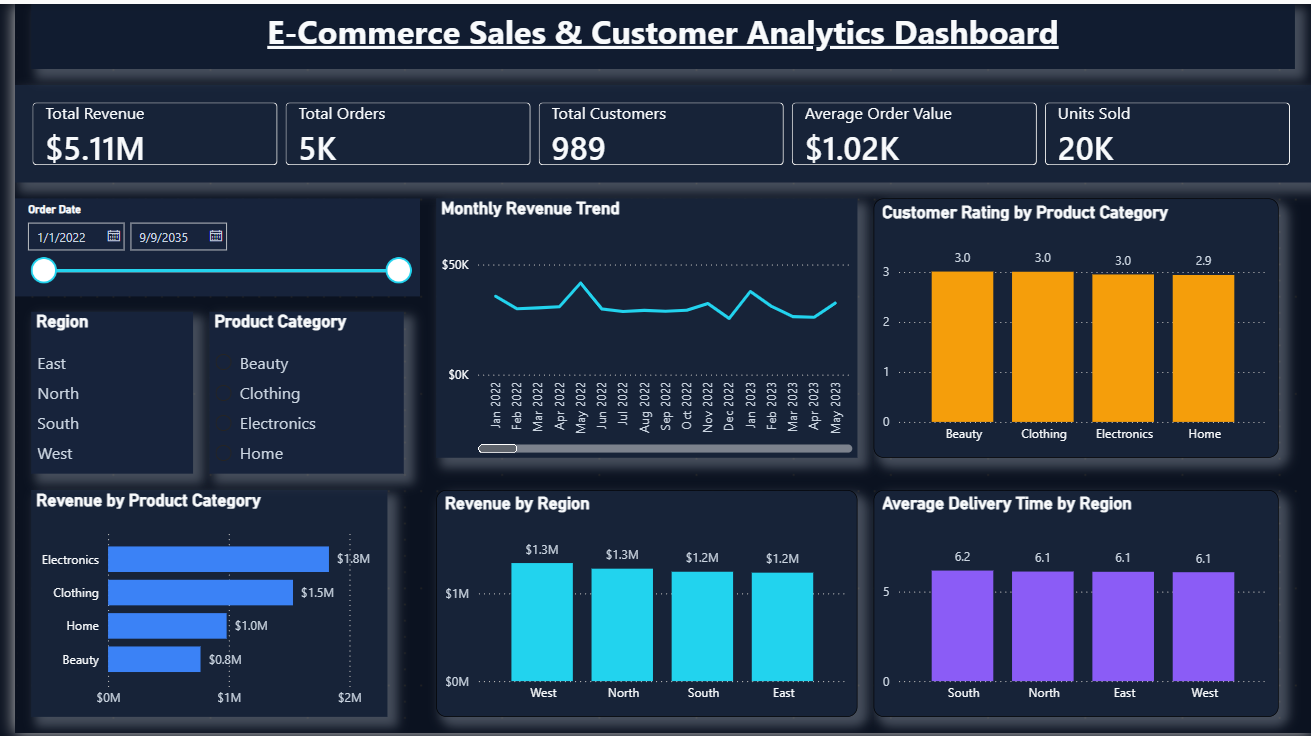

The page's visual inventory and layout, read from the dashboard file:
{"tool":"powerbi","page":{"name":"Executive Overview","canvas":[1280,720],"ordinal":0},"visuals":[{"type":"cardVisual","fields":{"Data":["ecommerce_sales_analytics_5000.Total Revenue","ecommerce_sales_analytics_5000.Total Orders","ecommerce_sales_analytics_5000.Total Customers","ecommerce_sales_analytics_5000.Average Order Value","ecommerce_sales_analytics_5000.Total Quantity Sold"]},"box":[0,80,1280,96],"z":4000},{"type":"lineChart","title":"Monthly Revenue Trend","fields":{"Y":["ecommerce_sales_analytics_5000.Total Revenue"],"Category":["ecommerce_sales_analytics_5000.Year Month"]},"box":[416,192,416,256],"z":5000},{"type":"clusteredBarChart","title":"Revenue by Product Category","fields":{"Category":["ecommerce_sales_analytics_5000.product_category"],"Y":["ecommerce_sales_analytics_5000.Total Revenue"]},"box":[16,480,352,224],"z":6000},{"type":"columnChart","title":"Revenue by Region","fields":{"Category":["ecommerce_sales_analytics_5000.region"],"Y":["ecommerce_sales_analytics_5000.Total Revenue"]},"box":[416,480,416,224],"z":7000},{"type":"clusteredColumnChart","title":"Customer Rating by Product Category","fields":{"Category":["ecommerce_sales_analytics_5000.product_category"],"Y":["Avg(ecommerce_sales_analytics_5000.customer_rating)"]},"box":[848,192,400,256],"z":8000},{"type":"clusteredColumnChart","title":"Average Delivery Time by Region","fields":{"Category":["ecommerce_sales_analytics_5000.region"],"Y":["ecommerce_sales_analytics_5000.Avg Delivery Days"]},"box":[848,480,400,224],"z":9000},{"type":"slicer","title":"Order Date","fields":{"Values":["ecommerce_sales_analytics_5000.order_date"]},"box":[0,192,400,96],"z":10000},{"type":"listSlicer","title":"Region","fields":{"Values":["ecommerce_sales_analytics_5000.region"]},"box":[16,304,160,160],"z":11000},{"type":"listSlicer","title":"Product Category","fields":{"Values":["ecommerce_sales_analytics_5000.product_category"]},"box":[192,304,192,160],"z":12000},{"type":"textbox","box":[16,0,1248,64],"z":12001}]}

Visuals, with their boxes in screenshot pixels (x1, y1, x2, y2), scaled from the page's 1280x720 canvas onto the 1311x736 screenshot:
cardVisual - ecommerce_sales_analytics_5000.Total Revenue x ecommerce_sales_analytics_5000.Total Orders: [left=0, top=82, right=1310, bottom=180]
"Monthly Revenue Trend" lineChart: [left=426, top=196, right=852, bottom=458]
"Revenue by Product Category" clusteredBarChart: [left=16, top=491, right=377, bottom=720]
"Revenue by Region" columnChart: [left=426, top=491, right=852, bottom=720]
"Customer Rating by Product Category" clusteredColumnChart: [left=869, top=196, right=1278, bottom=458]
"Average Delivery Time by Region" clusteredColumnChart: [left=869, top=491, right=1278, bottom=720]
"Order Date" slicer: [left=0, top=196, right=410, bottom=294]
"Region" listSlicer: [left=16, top=311, right=180, bottom=474]
"Product Category" listSlicer: [left=197, top=311, right=393, bottom=474]
textbox: [left=16, top=0, right=1295, bottom=65]
